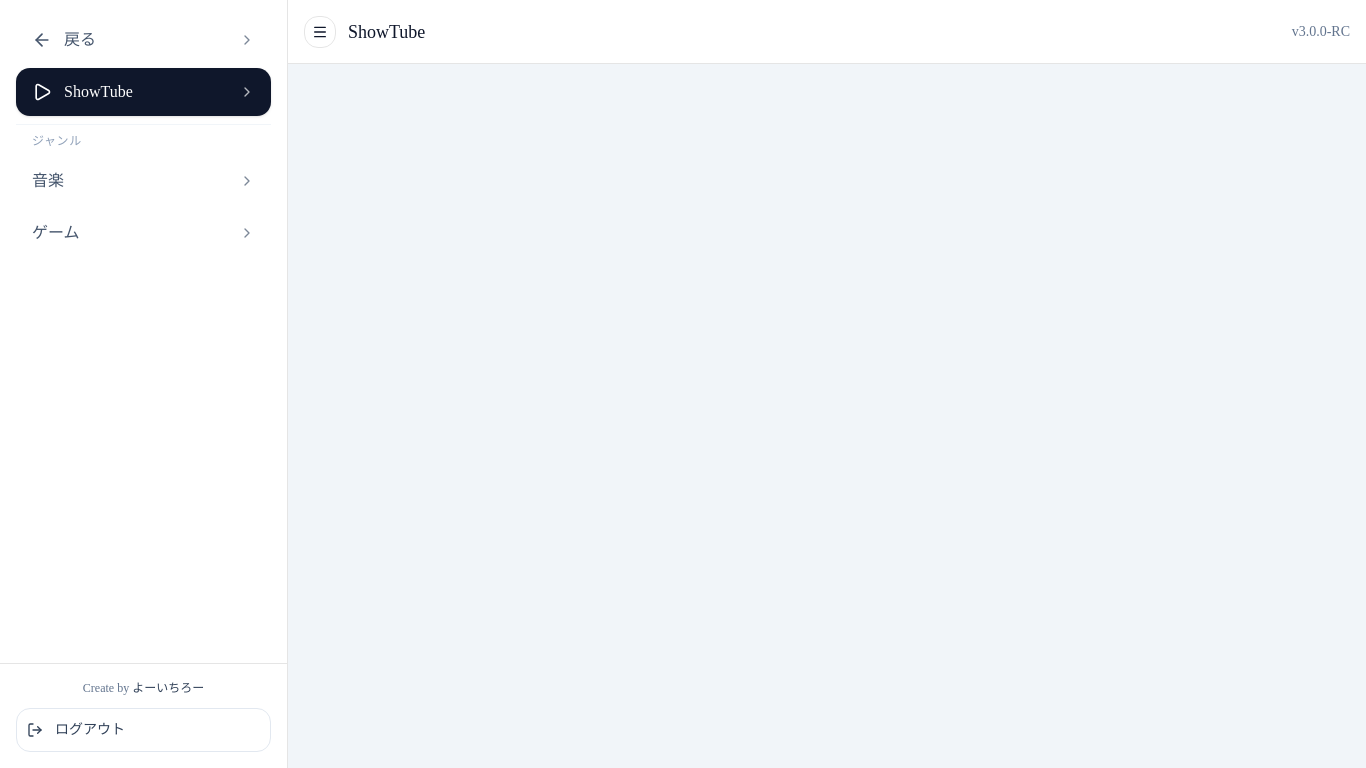
Test: ShowTubeShell › keeps logout pending during a slow request and restores the button on failure
Click the button "ログアウト" at (144, 730), box top-left (16, 708), bottom-right (271, 752)
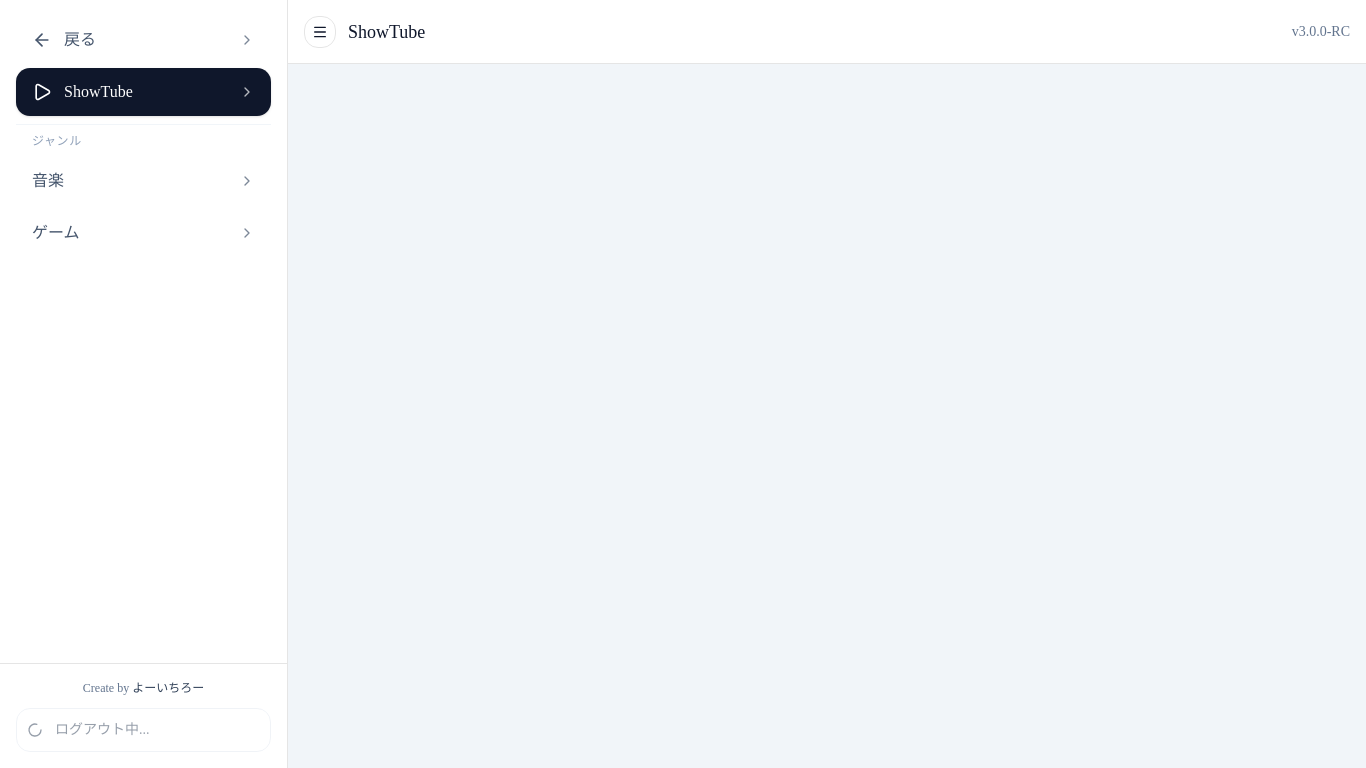
Now the button "ログアウト中..." is disabled
Click the button "ログアウト中..." at (144, 730), box top-left (16, 708), bottom-right (271, 752)
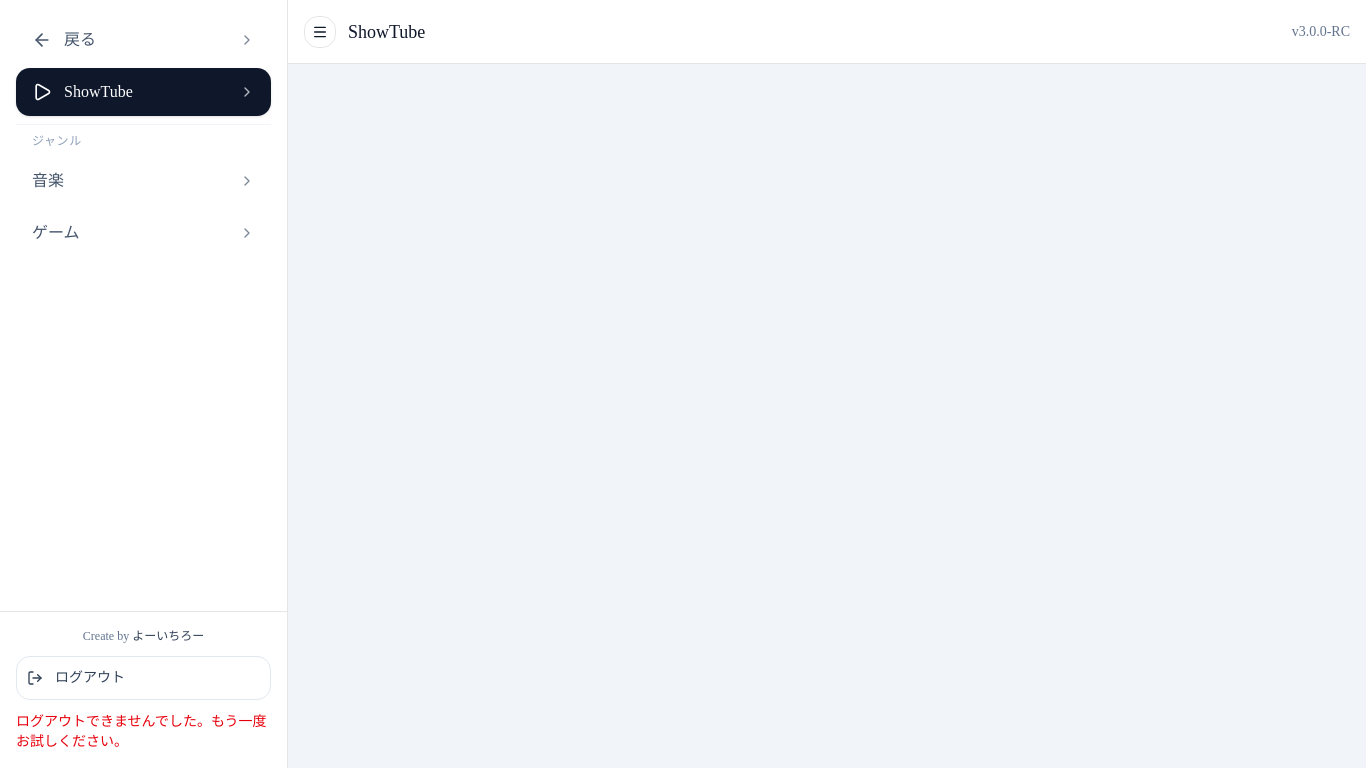
Now the message shows "ログアウトできませんでした", box top-left (16, 714), bottom-right (266, 749)
Now the button "ログアウト中..." is gone
Now the button "ログアウト" is enabled, box top-left (16, 656), bottom-right (271, 700)
